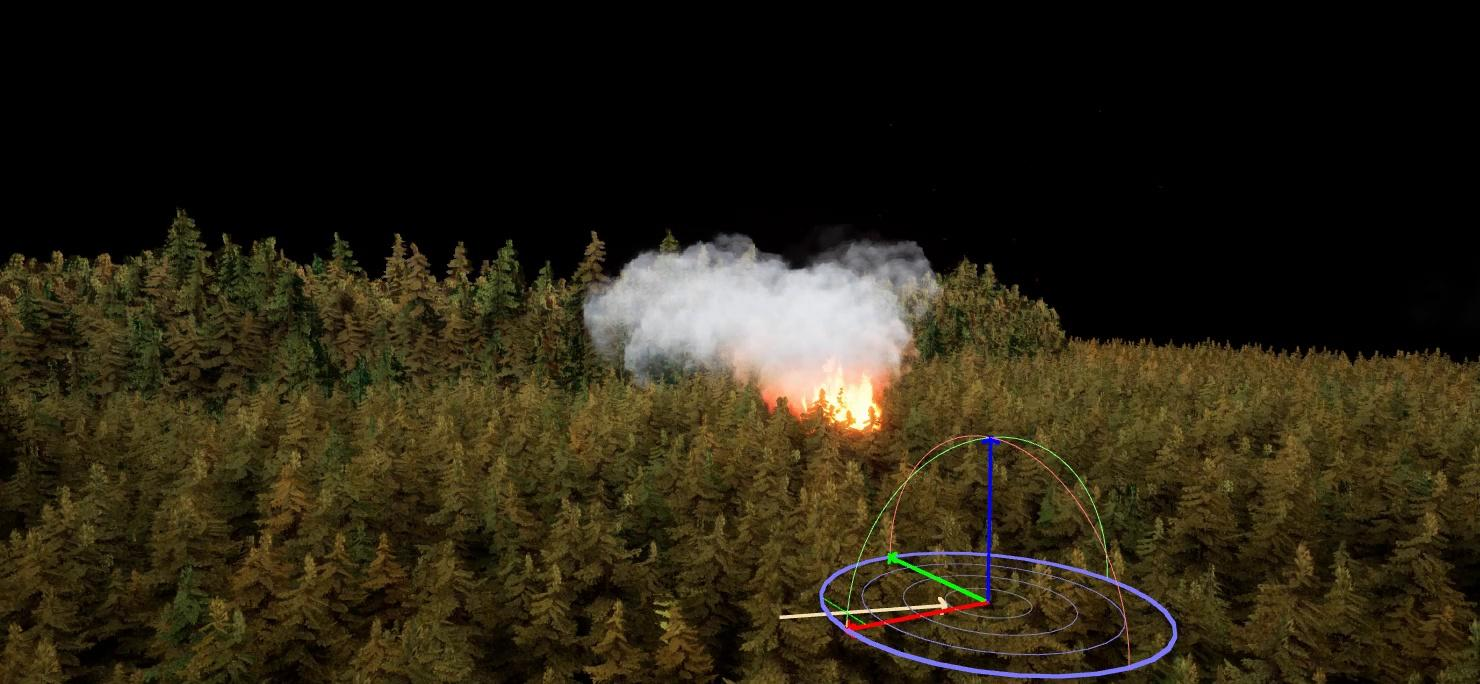fire: (788, 360, 890, 447)
smoke: (582, 242, 939, 396)
